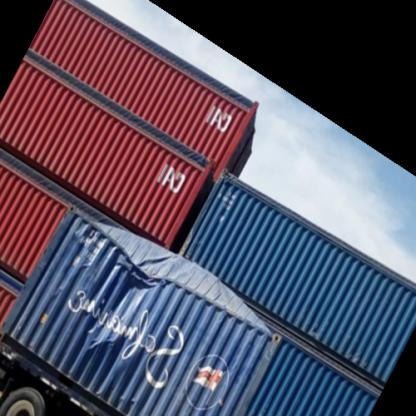Damage: (49, 220, 244, 394)
